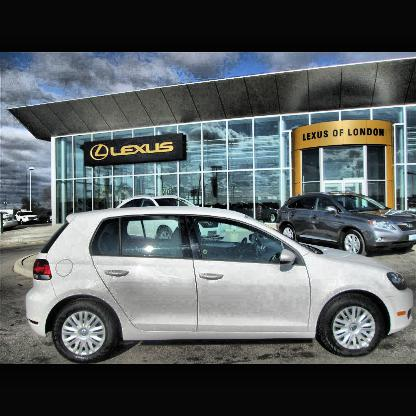Volkswagen Golf Hatchback 2012: (26, 206, 413, 358)
